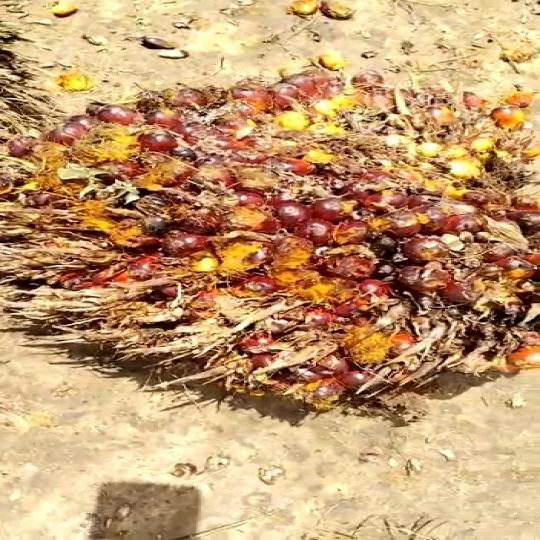masak: (0, 73, 540, 416)
